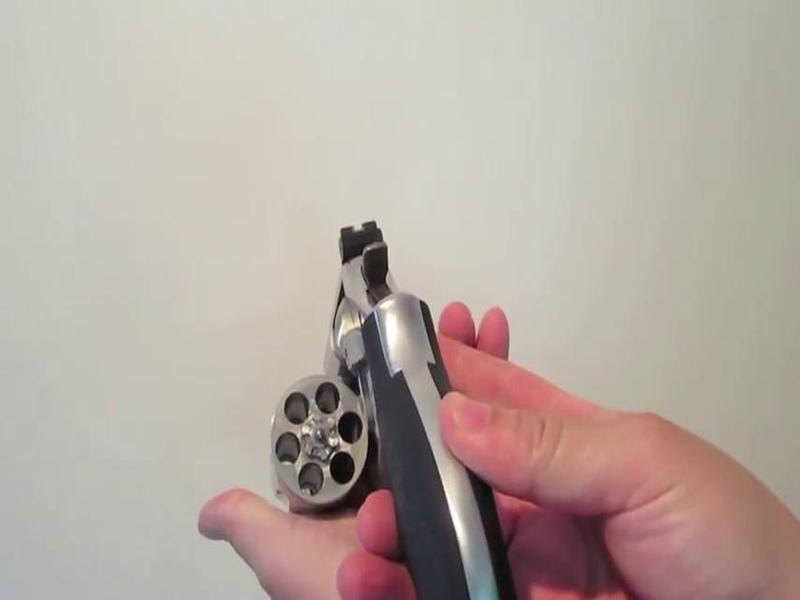Revolver: (244, 213, 522, 600)
